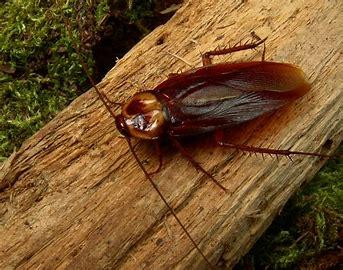cockroach: (81, 26, 329, 204)
